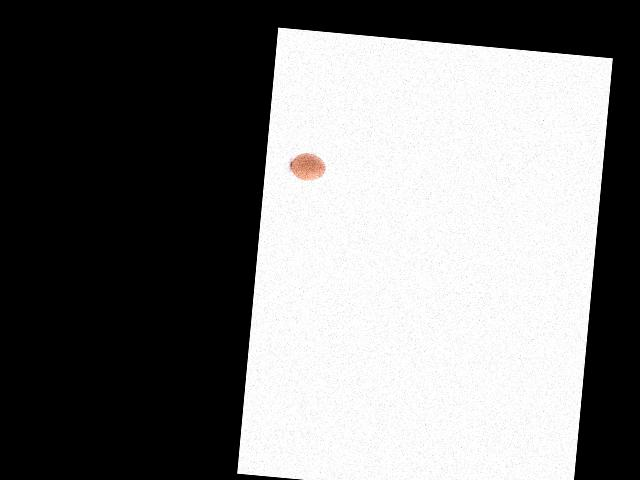egg: (289, 150, 326, 181)
